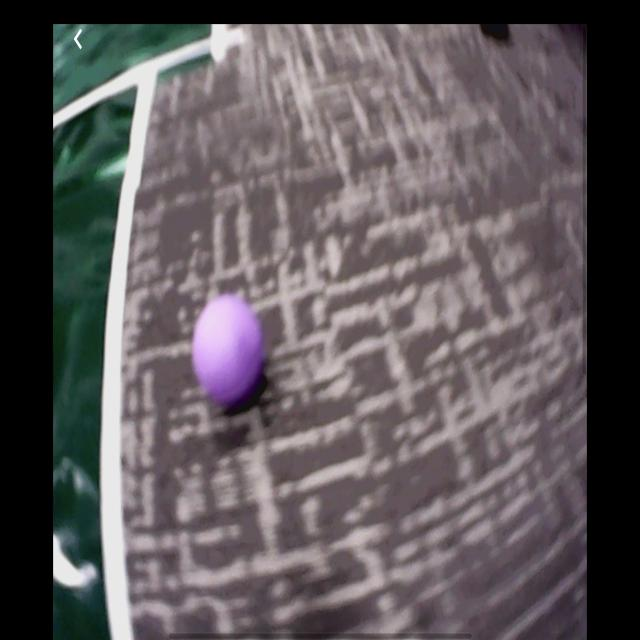ball: (192, 293, 267, 410)
